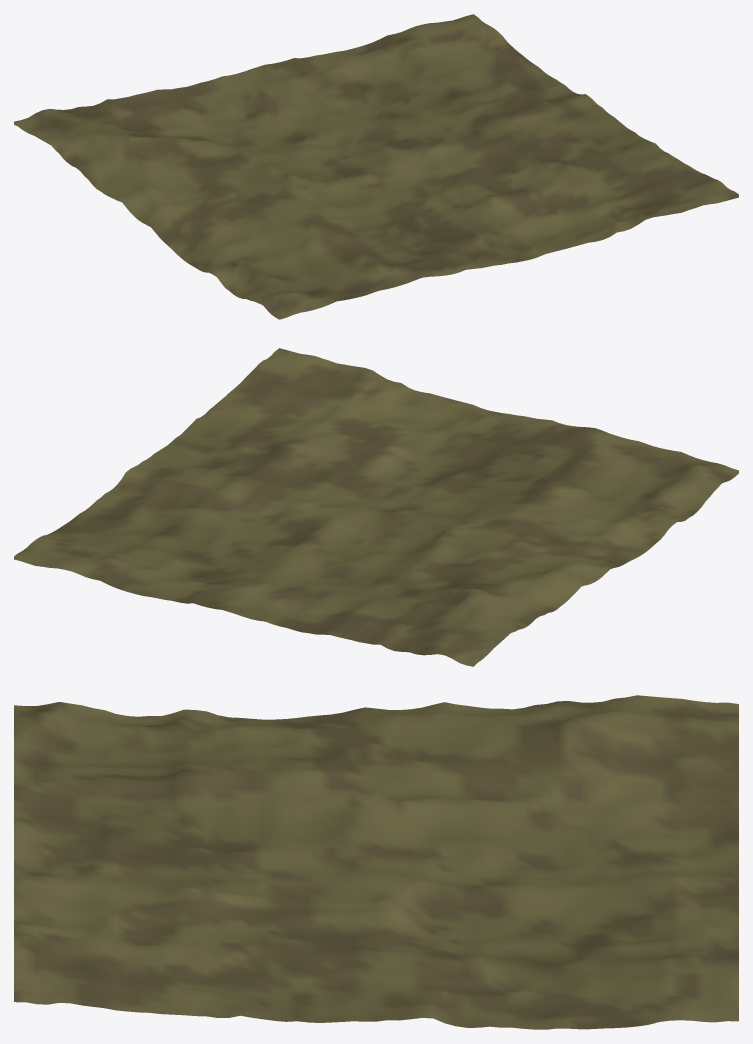
The model's file is land_f_00_01.glb.
3 views of the same model, one above another, from view 1: azimuth 30°, elevation 25°; view 2: azimuth 150°, elevation 25°; view 3: azimuth 270°, elevation 25° (orthographic). The views are drawn at different scales.
Visible parts, largest first — view 1: land_f_00_01; view 2: land_f_00_01; view 3: land_f_00_01.
Part boxes in pixels (x1,y1,x2,y2): land_f_00_01: [14, 14, 738, 319]; land_f_00_01: [14, 348, 738, 666]; land_f_00_01: [14, 695, 738, 1029].
Bounding box in the file's own units: 3840 × 251 × 3840.
